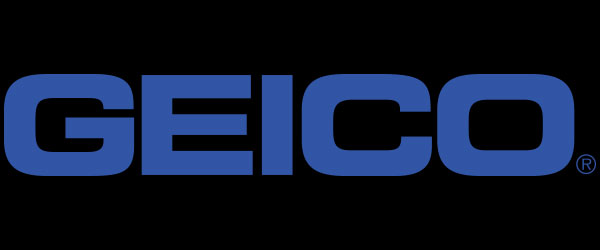geico: (5, 74, 596, 178)
